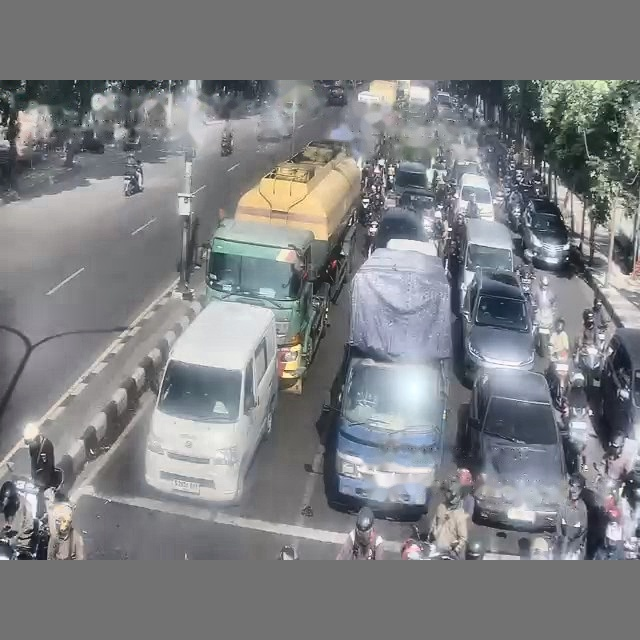Mobil: (463, 369, 567, 532), (462, 269, 534, 379), (600, 327, 639, 439), (520, 198, 570, 267), (374, 207, 427, 248), (393, 161, 430, 197), (256, 111, 293, 140), (450, 160, 482, 183), (327, 85, 346, 105)
Motor: (577, 344, 602, 388), (535, 305, 554, 356), (123, 173, 142, 196), (220, 137, 233, 156)
Truk: (206, 140, 360, 394), (323, 248, 452, 512)
